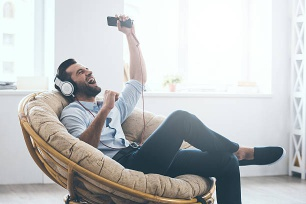male: (56, 58, 100, 104)
